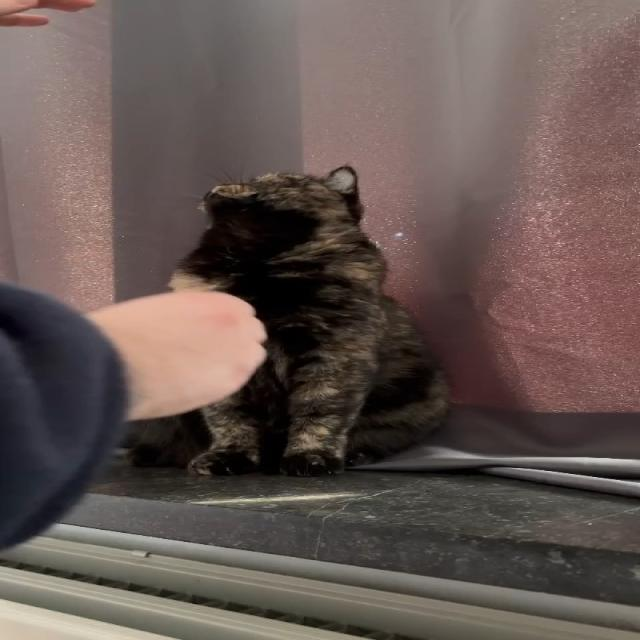authorized: (121, 165, 452, 477)
